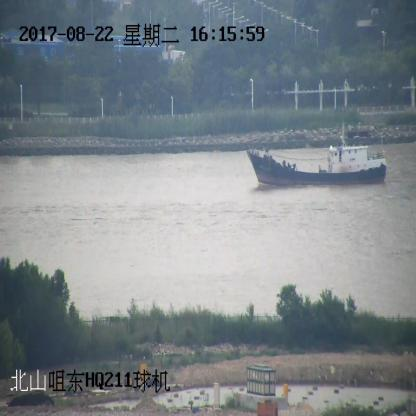Fishing Boat: (247, 123, 387, 185)
